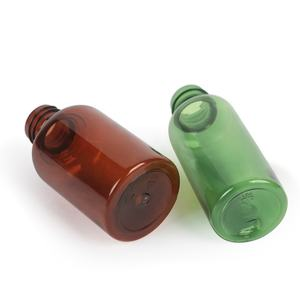plastic_bottle: (20, 59, 199, 277), (149, 39, 288, 291)
